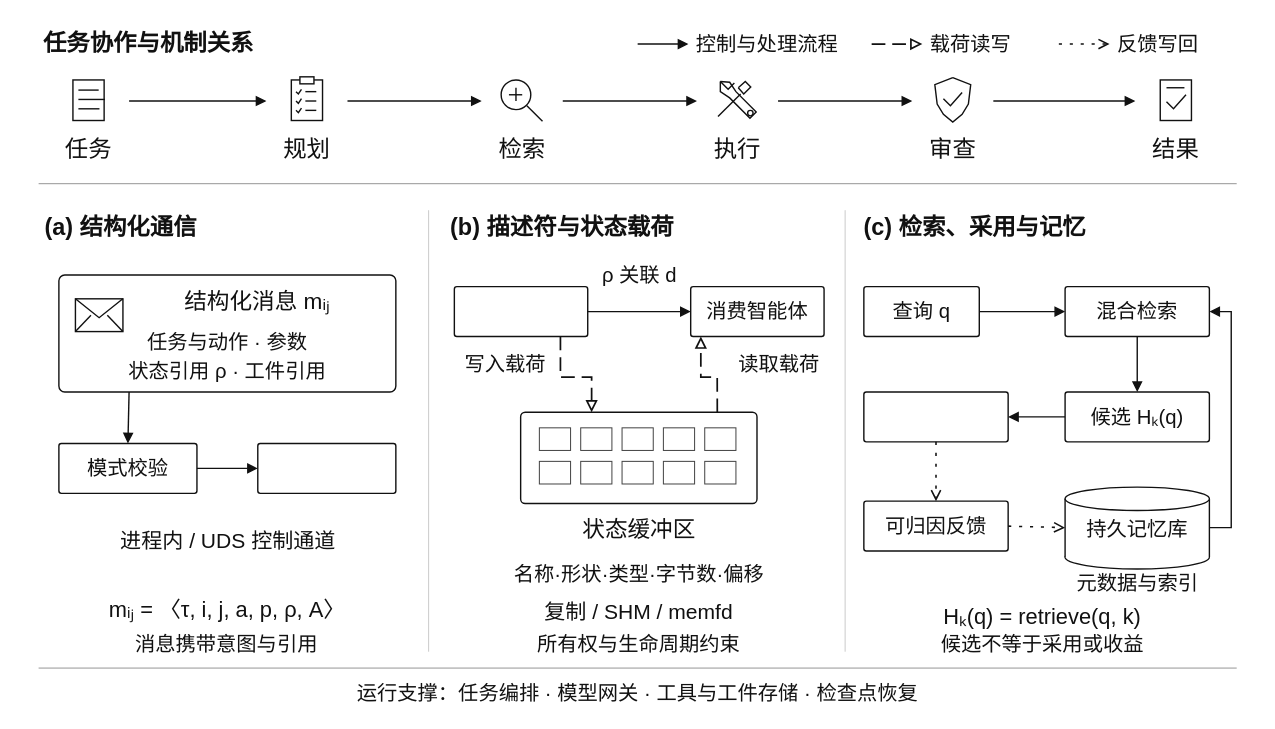
The diagram is 1275 pixels wide and 729 high, and some of its shapes have lost their labels. The centre of each missing label's shape, as x and y in pixels:
执行采用: the point at 935,416
生产智能体: the point at 520,311
路由传递: the point at 326,468
